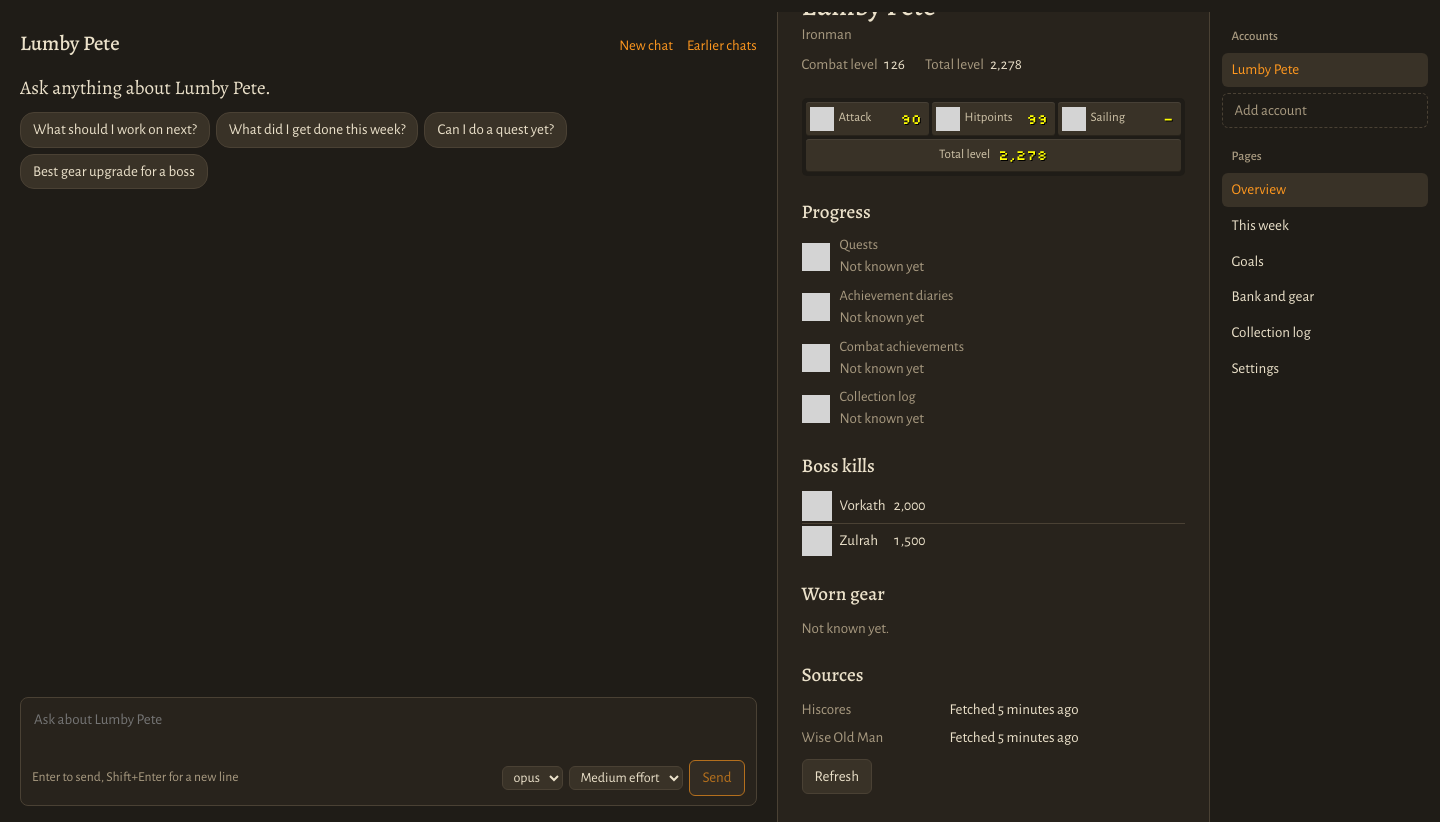
Test: Overview › offers the rename Wise Old Man found, renames, then fetches under the new name
The image size is (1440, 822).
(page scrolled)
Click the button "Refresh".
click(837, 777)  # box 802,759 -> 872,794
(page scrolled)
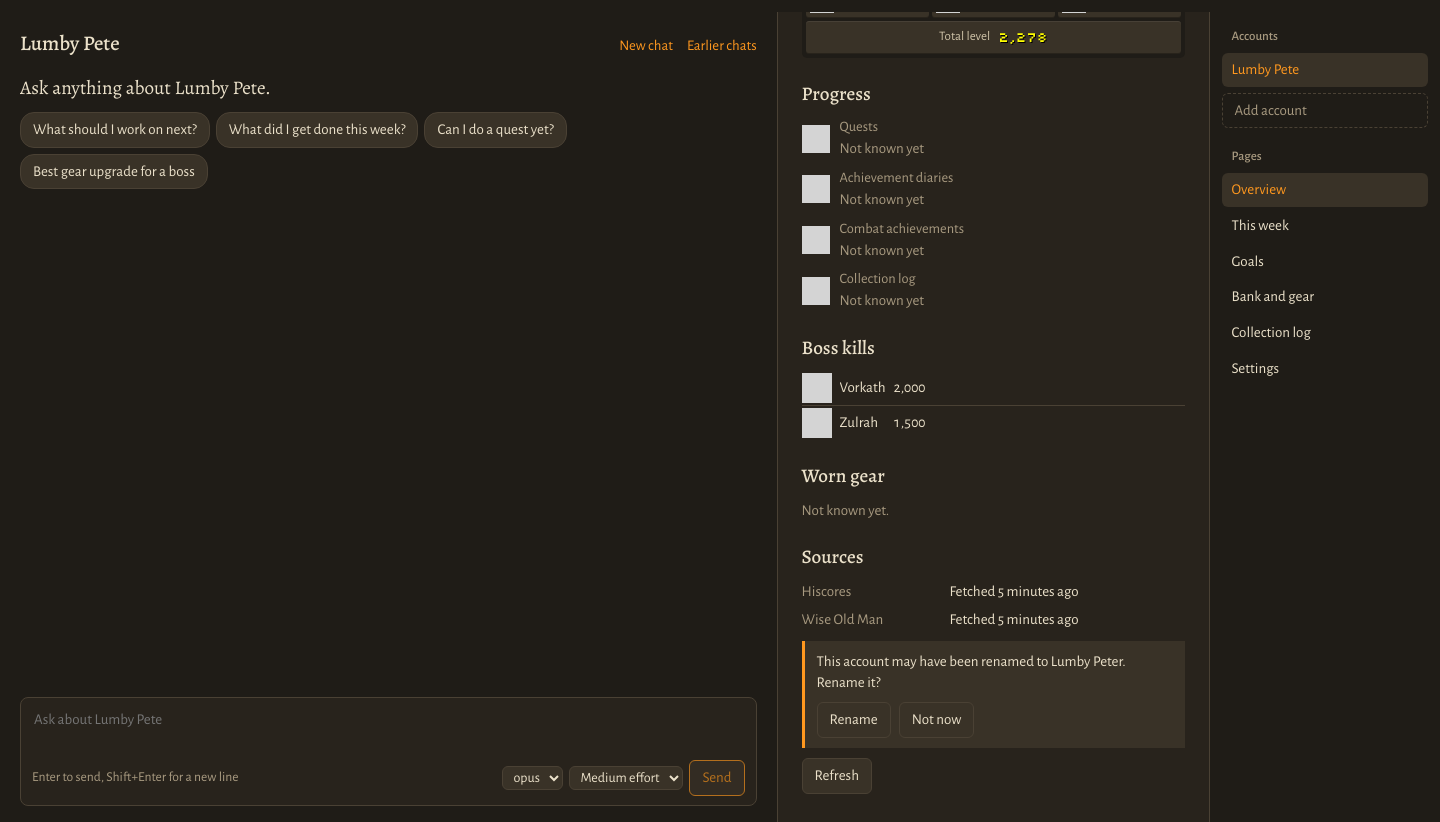
Now the text "This account may have been renamed to Lumby Peter. Rename it?" is shown, box 817,651 -> 1173,694
Click the button "Rename".
click(854, 720)  # box 817,702 -> 891,738
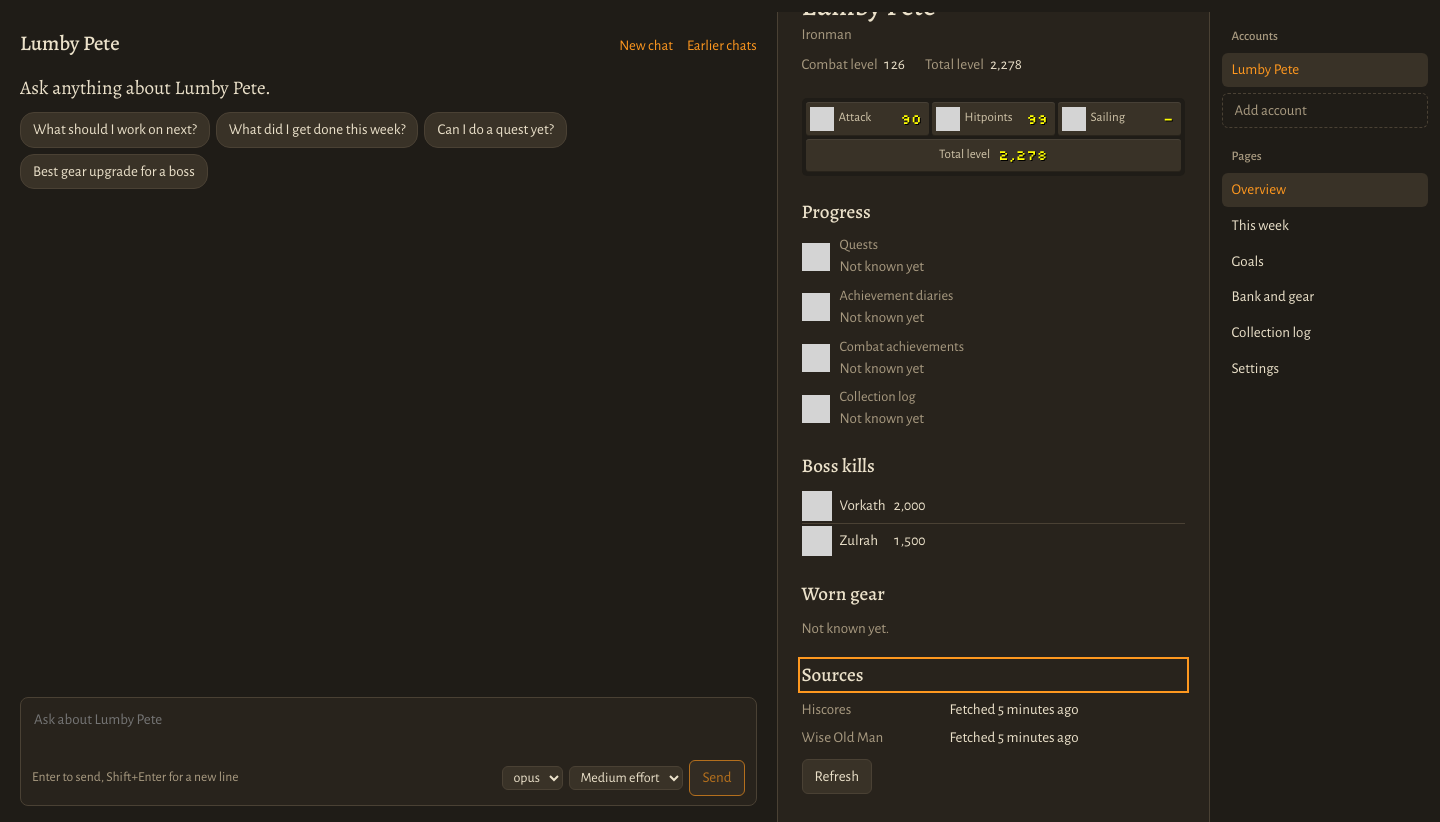
Now the text "may have been renamed" is gone
Now the text "rename" is gone
